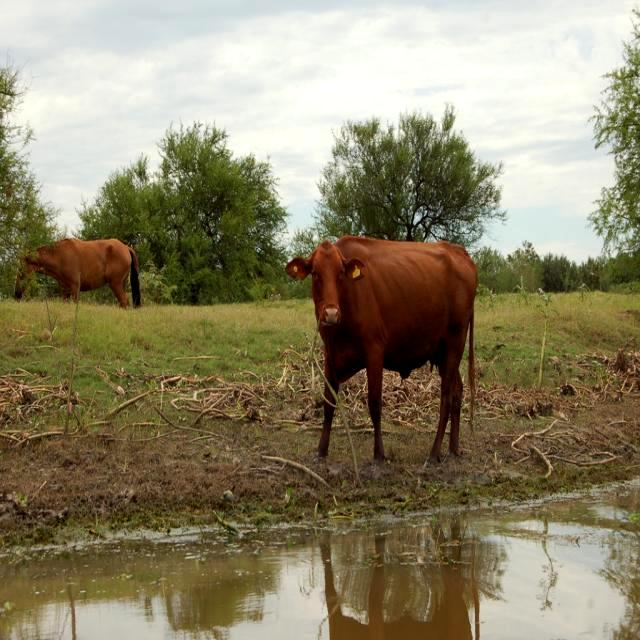COW: (286, 236, 478, 462)
